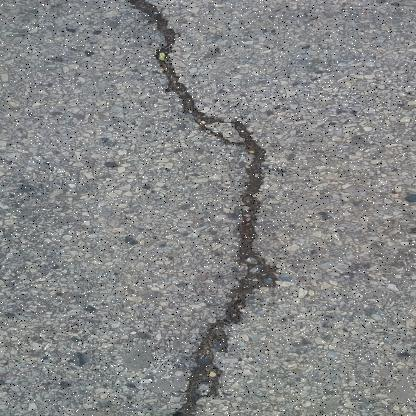Cracks: (108, 0, 286, 415)
